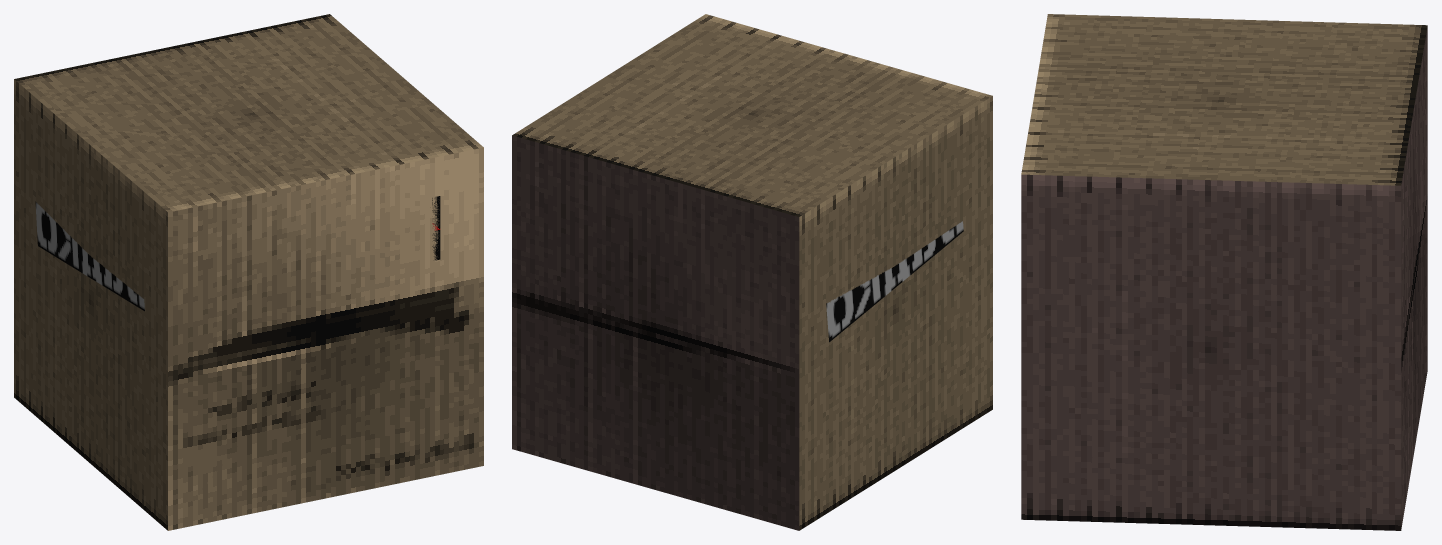
The model's file is primary_040.glb.
The picture shows the model from 3 angles, left to right: view 1: azimuth 30°, elevation 25°; view 2: azimuth 150°, elevation 25°; view 3: azimuth 270°, elevation 25°; orthographic projection. The views are drawn at different scales.
Visible parts, largest first — view 1: Object; view 2: Object; view 3: Object.
Boxes of the visible parts, x1,y1,x2,y2 form: Object: (14,14,483,530); Object: (512,14,992,530); Object: (1021,14,1427,530).
Bounding box in the file's own units: 1.01 × 0.9501 × 1.01.
8 materials, 8 textured.
